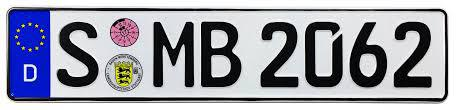0: (303, 19, 345, 88)
2: (258, 19, 302, 91), (392, 19, 435, 91)
6: (349, 20, 389, 89)
B: (199, 19, 243, 88)
M: (152, 18, 196, 88)
S: (56, 19, 101, 89)
